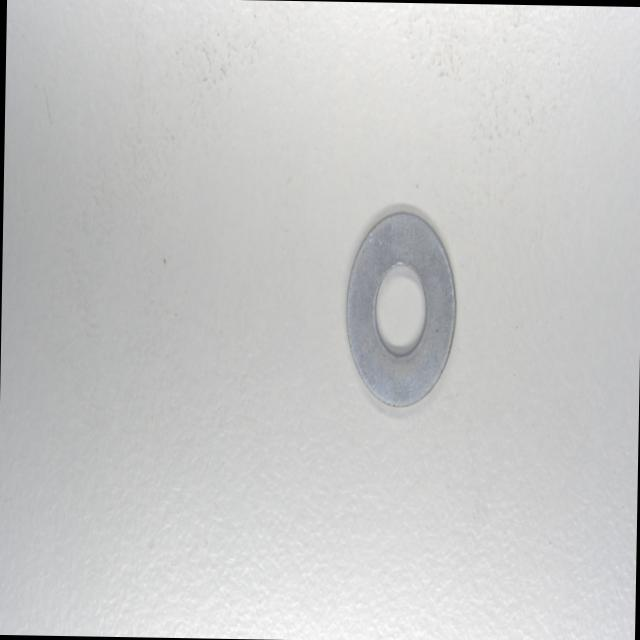washer: (341, 206, 457, 410)
